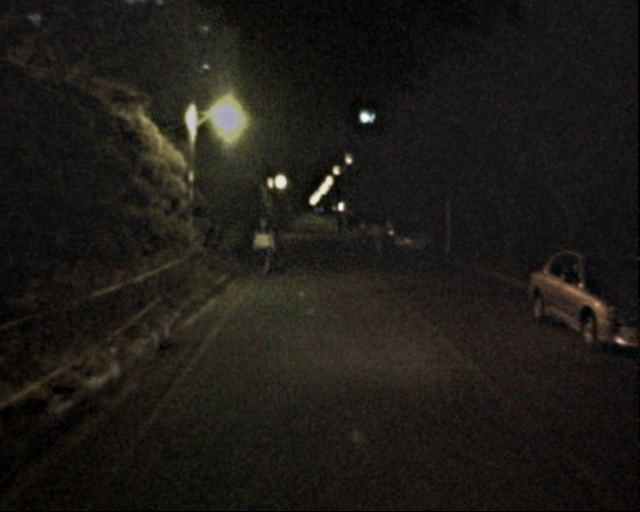person: (249, 217, 273, 276), (371, 219, 387, 259), (339, 220, 357, 242)
